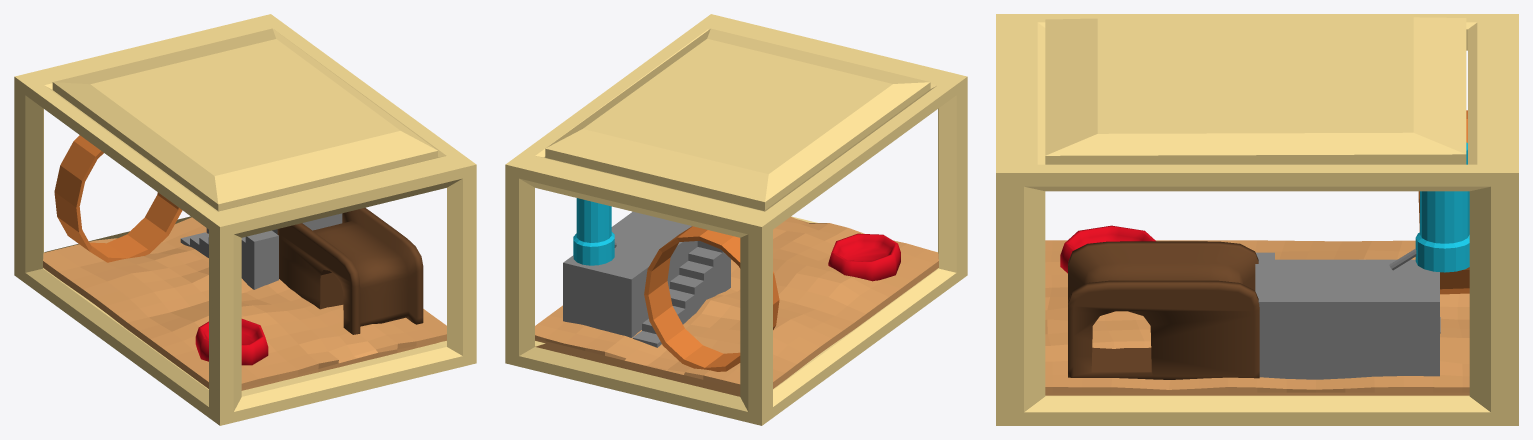
Rendered from Cage.fbx.
The picture shows the model from 3 angles, left to right: view 1: azimuth 30°, elevation 25°; view 2: azimuth 150°, elevation 25°; view 3: azimuth 270°, elevation 25°; orthographic projection. The views are drawn at different scales.
Parts seen in each view (by area): view 1: Cube.007, Cube.002; view 2: Cube.007, Cube.002; view 3: Cube.007, Cube.002.
Boxes of the visible parts, x1,y1,x2,y2 form: Cube.007: (14, 14, 476, 425); Cube.002: (52, 28, 437, 210); Cube.007: (505, 14, 967, 425); Cube.002: (545, 28, 930, 210); Cube.007: (996, 14, 1518, 425); Cube.002: (1045, 17, 1466, 164).
Bounding box in the file's own units: 915 × 726 × 1271.
